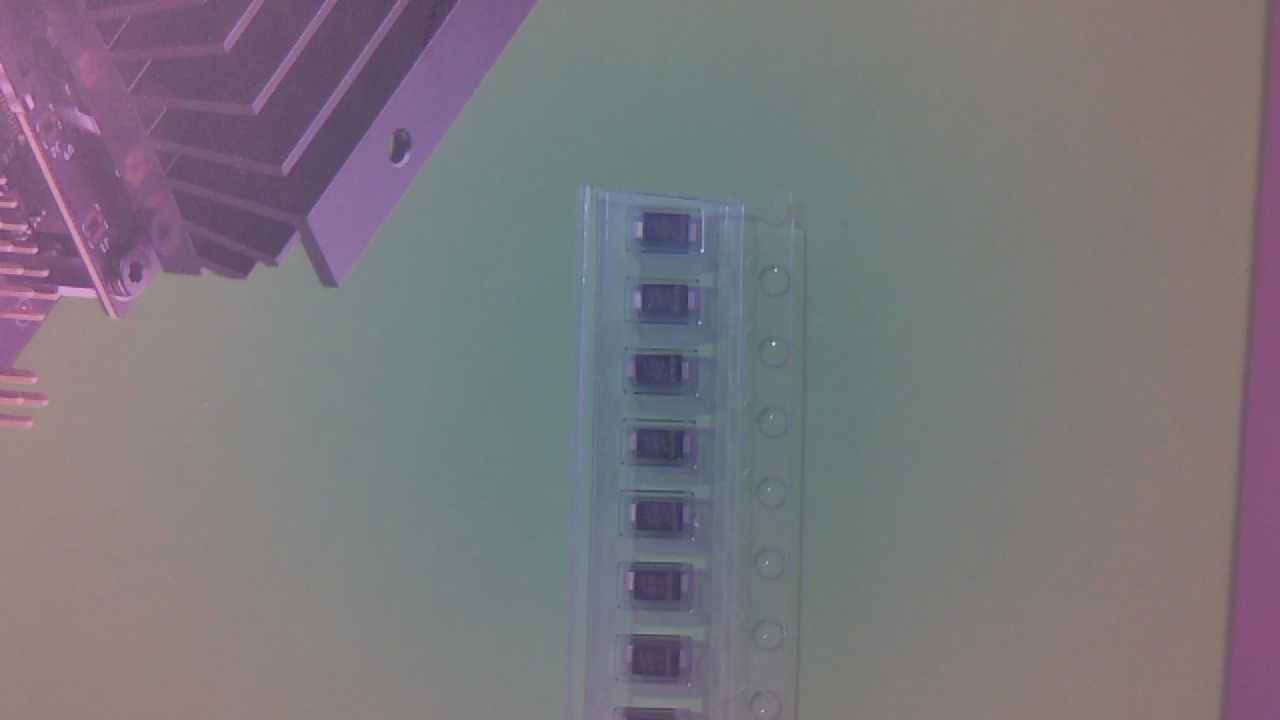Diode: (629, 642, 695, 683), (632, 570, 697, 610), (633, 499, 701, 537), (638, 287, 704, 325), (639, 219, 705, 256), (631, 356, 697, 390), (634, 433, 697, 463)
